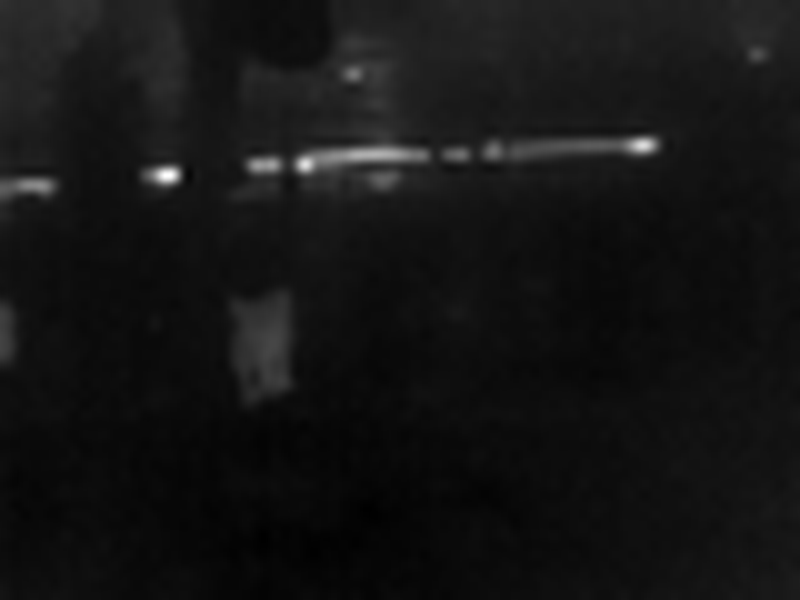elephant: (213, 291, 297, 409)
